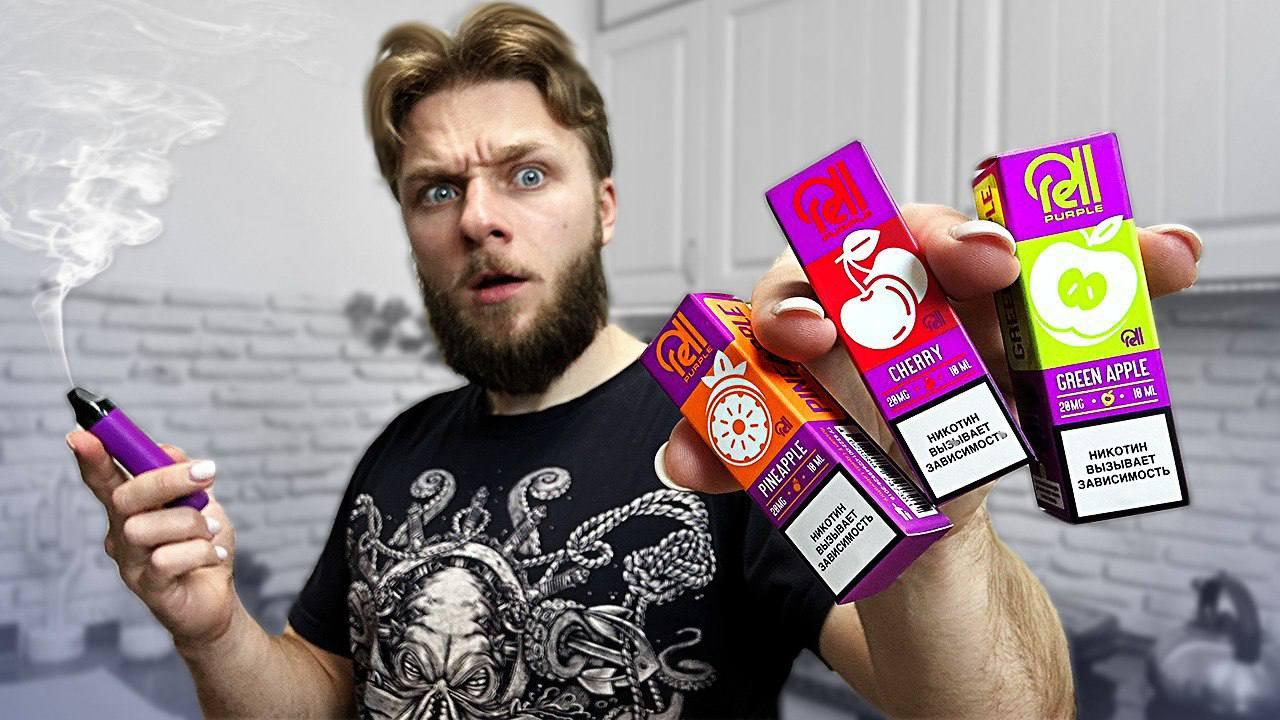Vape: (66, 387, 210, 512)
